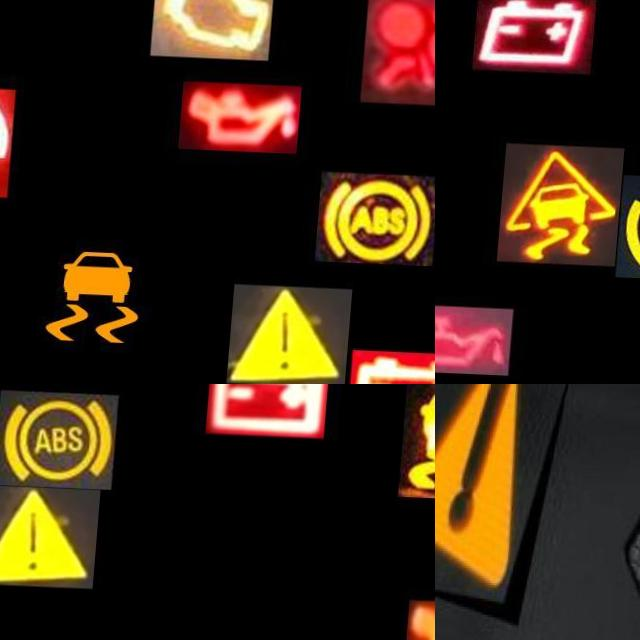Central Warning lamp: (234, 281, 358, 384), (0, 484, 108, 587)
